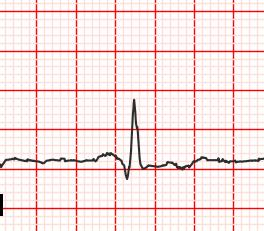Pathological Q Wave: (112, 148, 135, 184)
